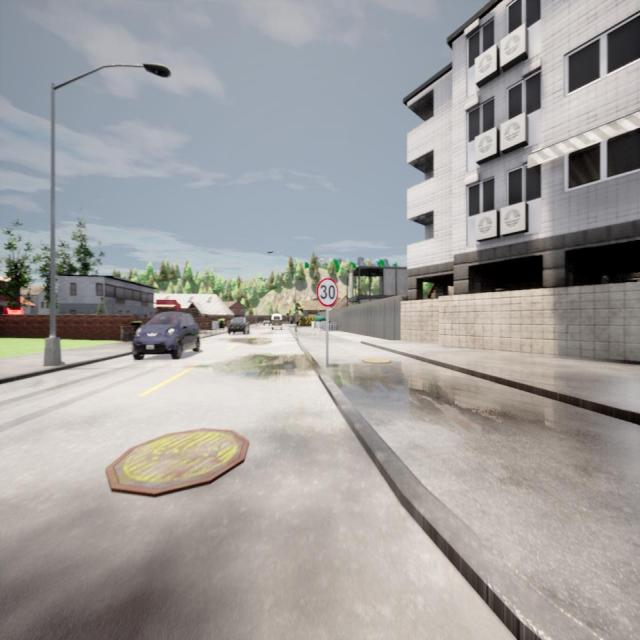Traffic_Signs: (317, 278, 339, 307)
Vehicle: (133, 311, 199, 359), (228, 316, 249, 334), (271, 314, 283, 330), (263, 318, 270, 325)
